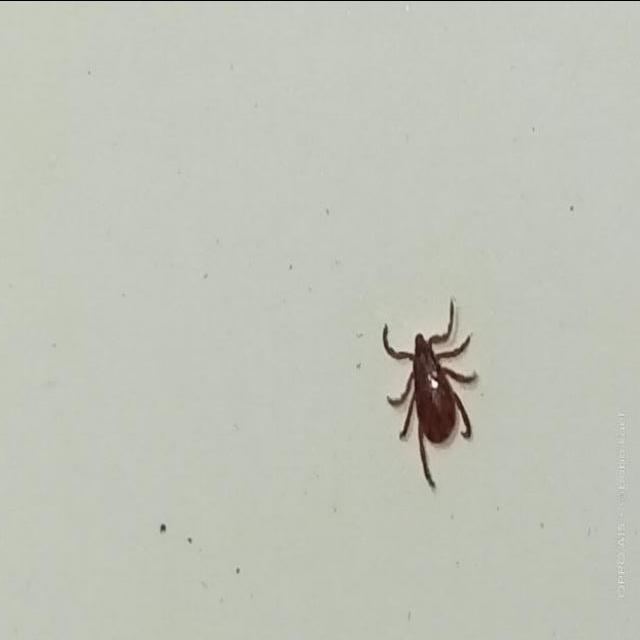Rhipicephalus Sanguineus-M: (384, 294, 481, 490)
